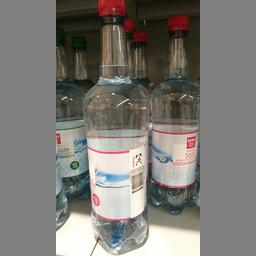water: (82, 0, 148, 251), (148, 12, 196, 214)
